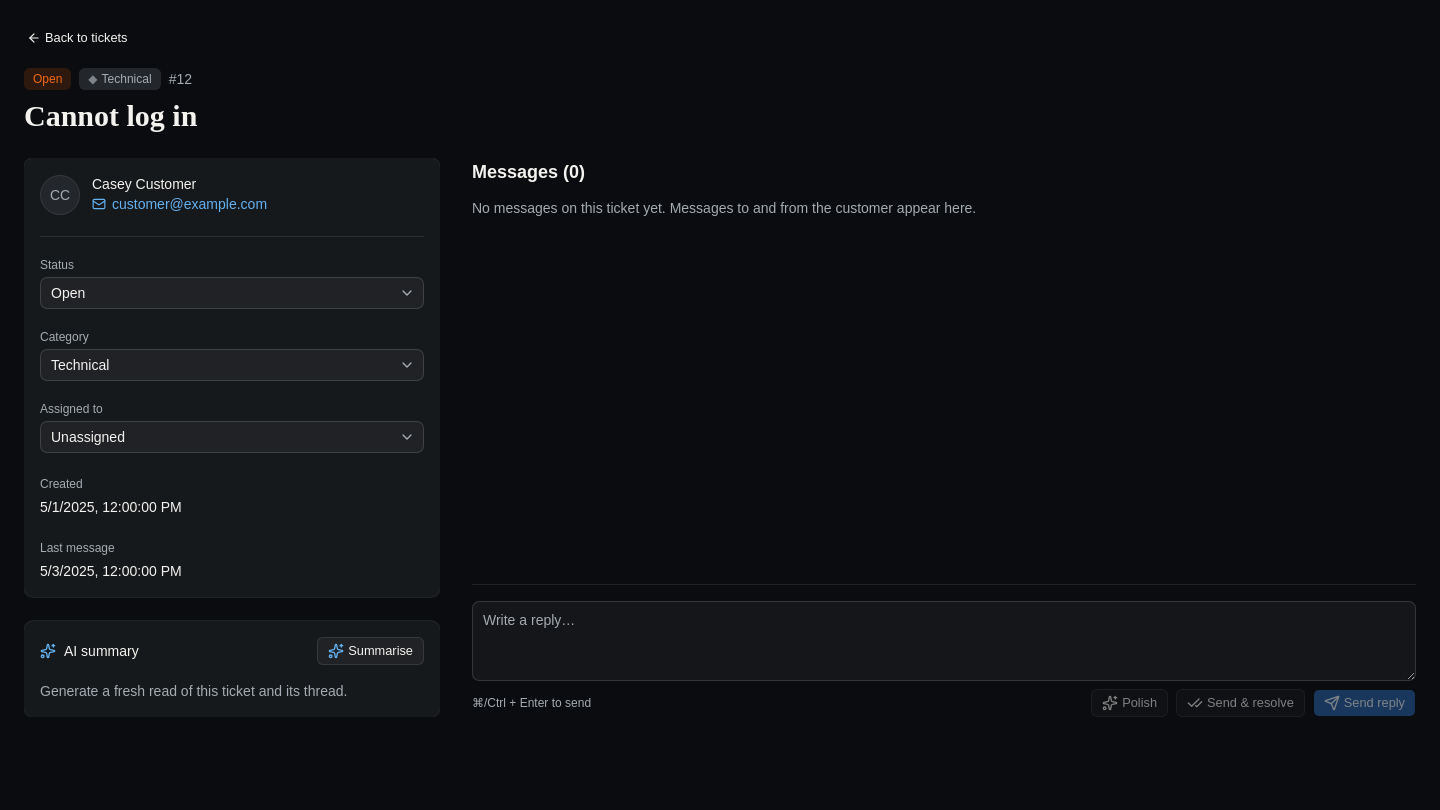
Test: TicketDetailPage assignment › offers Unassigned and every agent
Expected: the heading "Cannot log in" is shown, x1=24 y1=99 x2=197 y2=132
Click the dropdown named "Assigned to" at x=88, y=437, box x1=40 y1=421 x2=424 y2=453
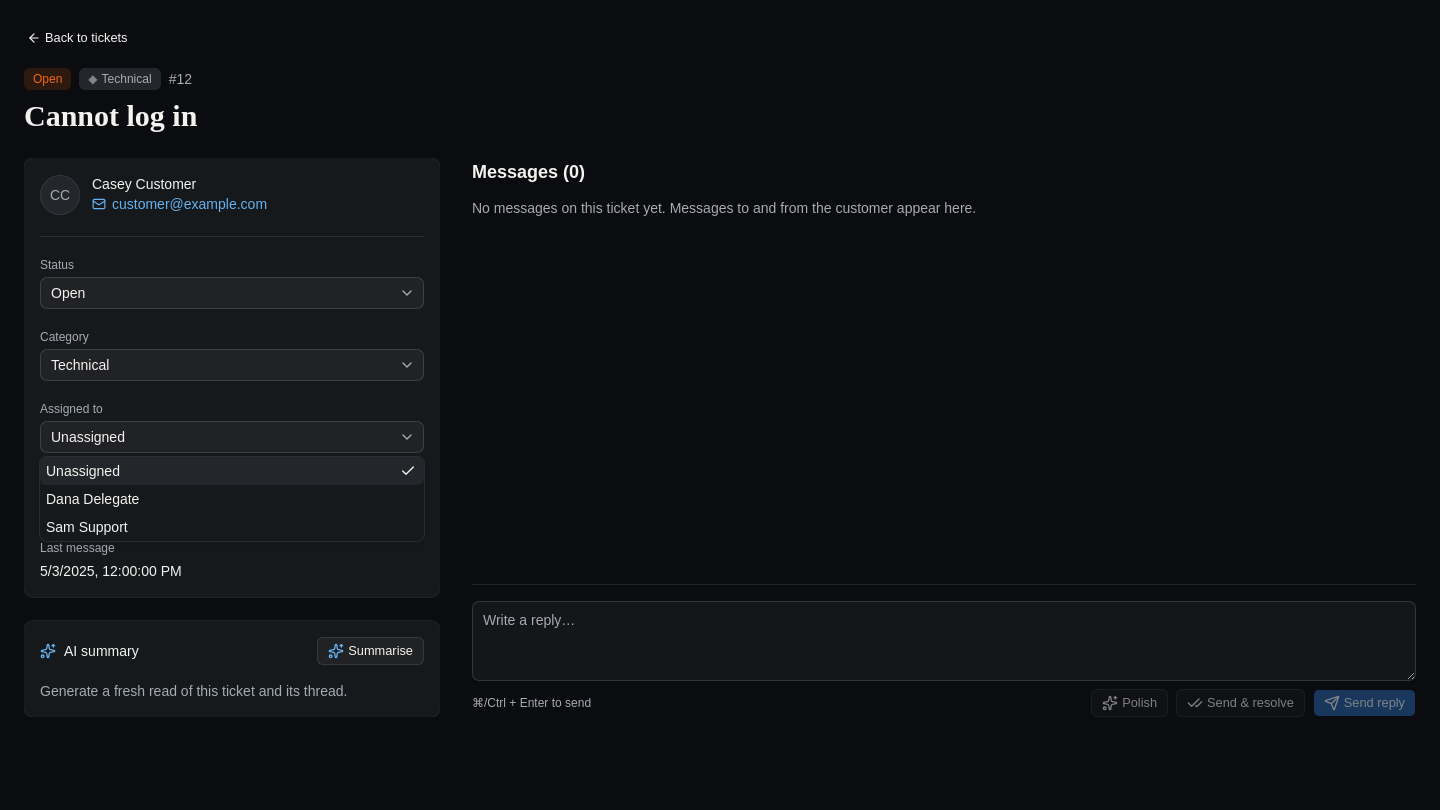
Expected: the option "Unassigned" is shown, x1=40 y1=457 x2=424 y2=485
Expected: the option "Dana Delegate" is shown, x1=46 y1=491 x2=139 y2=507
Expected: the option "Sam Support" is shown, x1=46 y1=519 x2=128 y2=535
